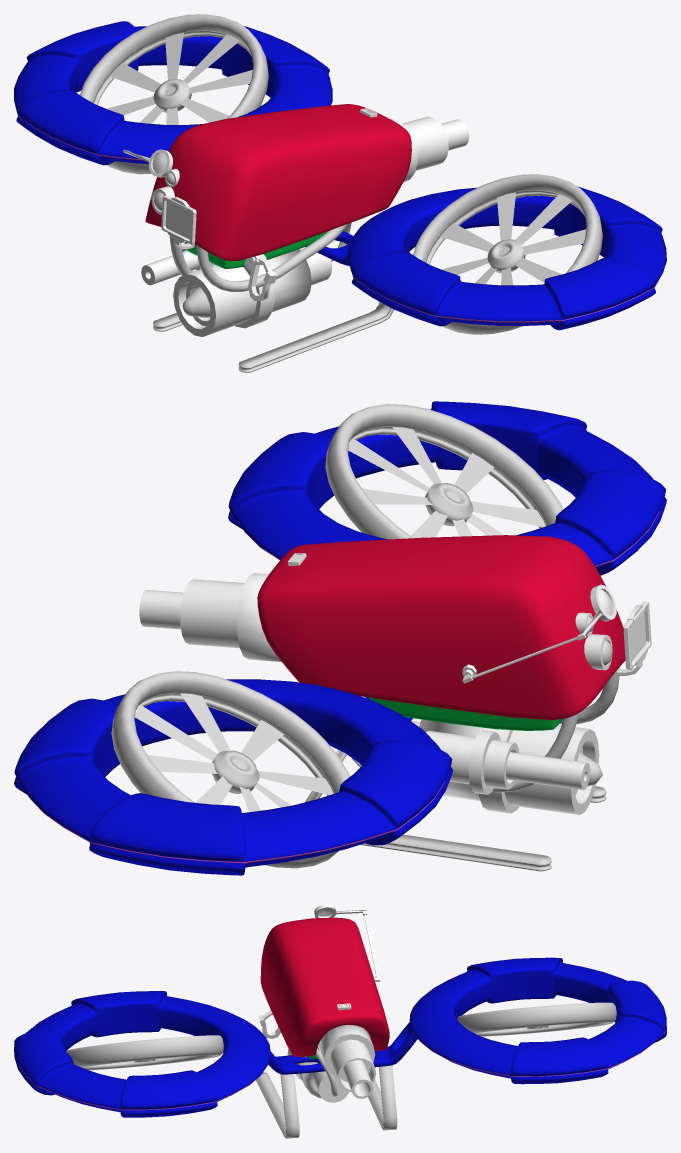
The model's file is SM_Drone.fbx.
3 renders of one model, top to bottom at view 1: azimuth 30°, elevation 25°; view 2: azimuth 150°, elevation 25°; view 3: azimuth 270°, elevation 25°, orthographic. The views are drawn at different scales.
Parts seen in each view (by area): view 1: Drone.001; view 2: Drone.001; view 3: Drone.001.
Boxes of the visible parts, x1,y1,x2,y2 form: Drone.001: [14, 14, 666, 372]; Drone.001: [14, 401, 666, 875]; Drone.001: [14, 904, 666, 1138].
Bounding box in the file's own units: 80.74 × 40.86 × 149.
